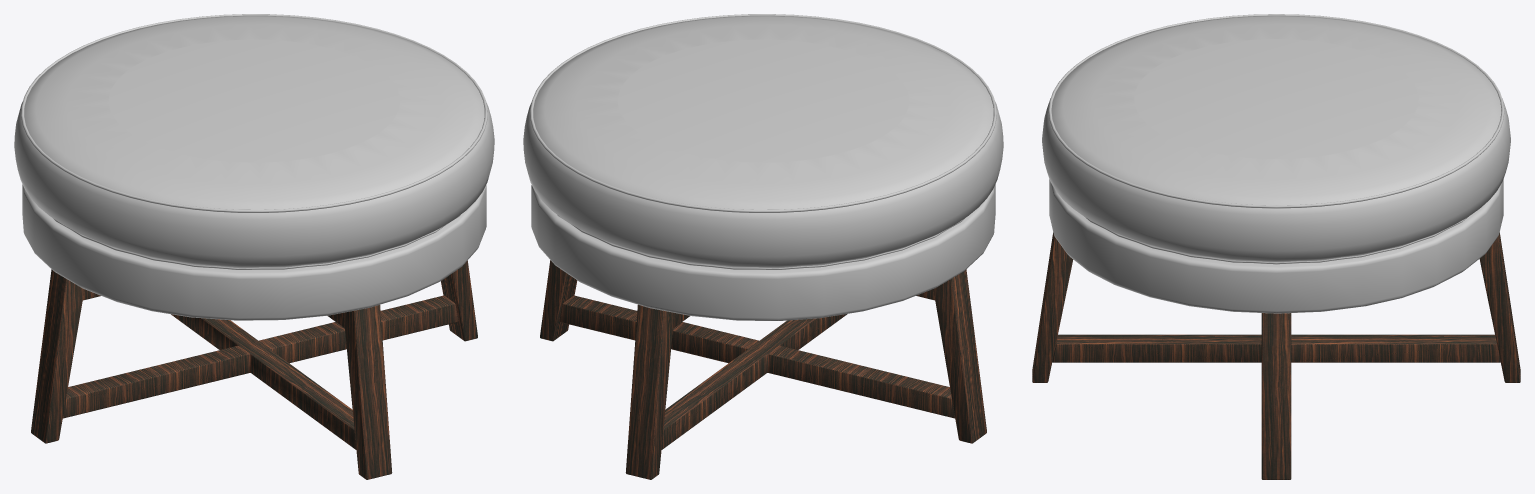
File: Ottoman.dae
3 views of the same model, side by side, from view 1: azimuth 30°, elevation 25°; view 2: azimuth 150°, elevation 25°; view 3: azimuth 270°, elevation 25° (orthographic). The views are drawn at different scales.
Parts seen in each view (by area): view 1: Ottoman (×4); view 2: Ottoman (×4); view 3: Ottoman (×4).
Boxes of the visible parts, <box> form: Ottoman (×4): <box>14,14,494,479</box>; Ottoman (×4): <box>523,14,1003,479</box>; Ottoman (×4): <box>1032,14,1520,479</box>.
Size of the model in its own units: 0.5679 by 0.36 by 0.5679.
